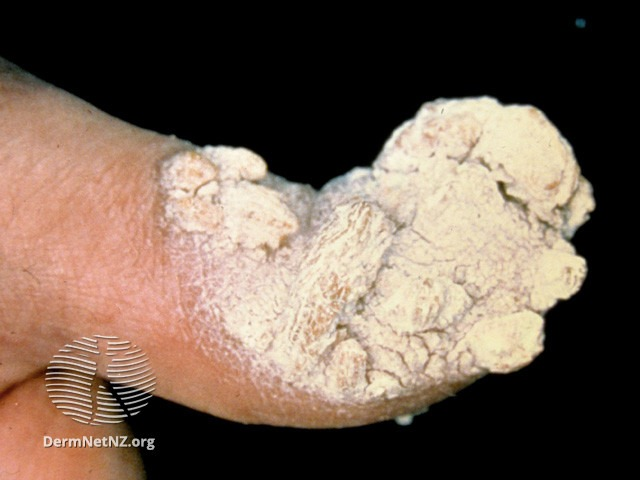Warts: (146, 52, 605, 400)
